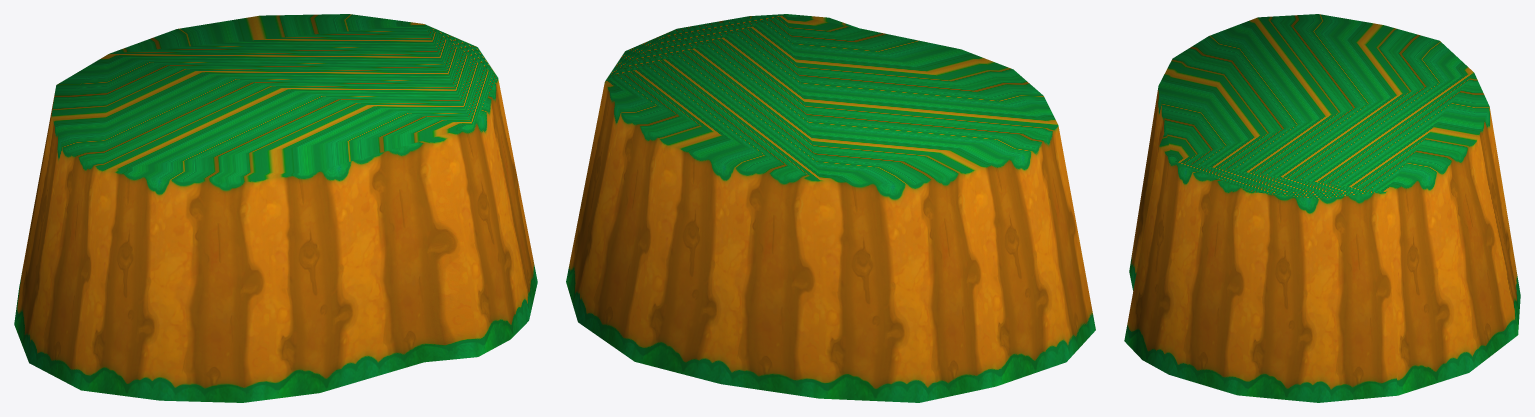
The model's file is Hill01_c01_col.FBX.
3 renders of one model, left to right at view 1: azimuth 30°, elevation 25°; view 2: azimuth 150°, elevation 25°; view 3: azimuth 270°, elevation 25°, orthographic. The views are drawn at different scales.
Visible parts, largest first — view 1: Hill01_c01_col; view 2: Hill01_c01_col; view 3: Hill01_c01_col.
Part boxes in pixels (x1=…): Hill01_c01_col: x1=14, y1=14, x2=537, y2=402; Hill01_c01_col: x1=566, y1=14, x2=1095, y2=402; Hill01_c01_col: x1=1124, y1=14, x2=1520, y2=402.
Bounding box in the file's own units: 1216 × 499 × 948.
Materials: 1 (1 with a texture image).
